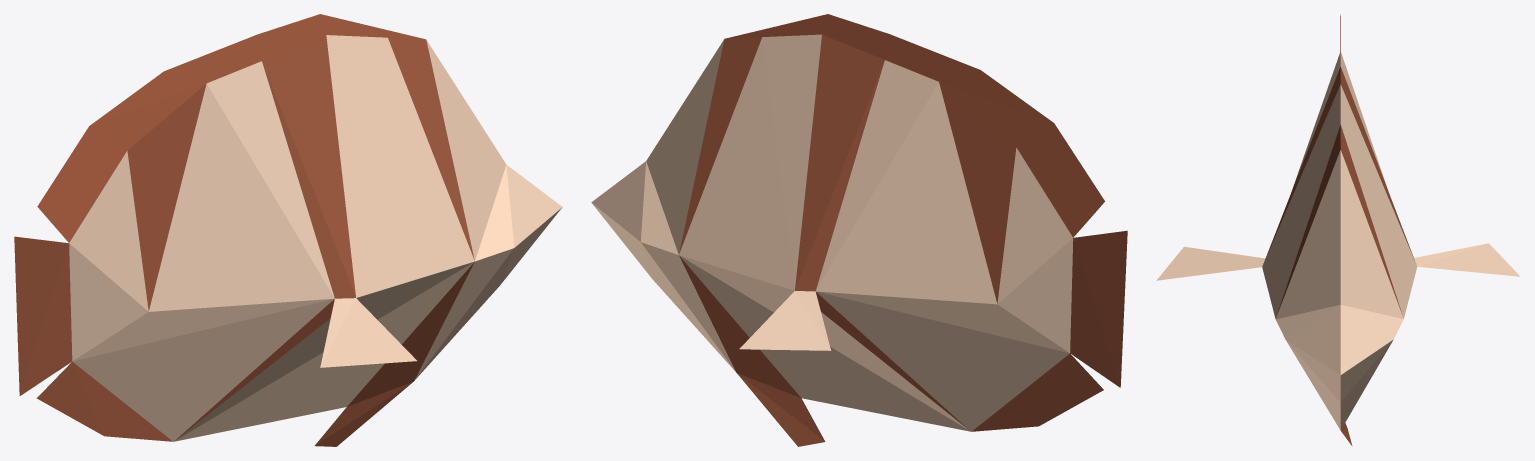
The model's file is fish4.obj.
3 views of the same model, side by side, from view 1: azimuth 30°, elevation 25°; view 2: azimuth 150°, elevation 25°; view 3: azimuth 270°, elevation 25° (orthographic). The views are drawn at different scales.
Bounding box in the file's own units: 3.55 × 2.74 × 2.42.
